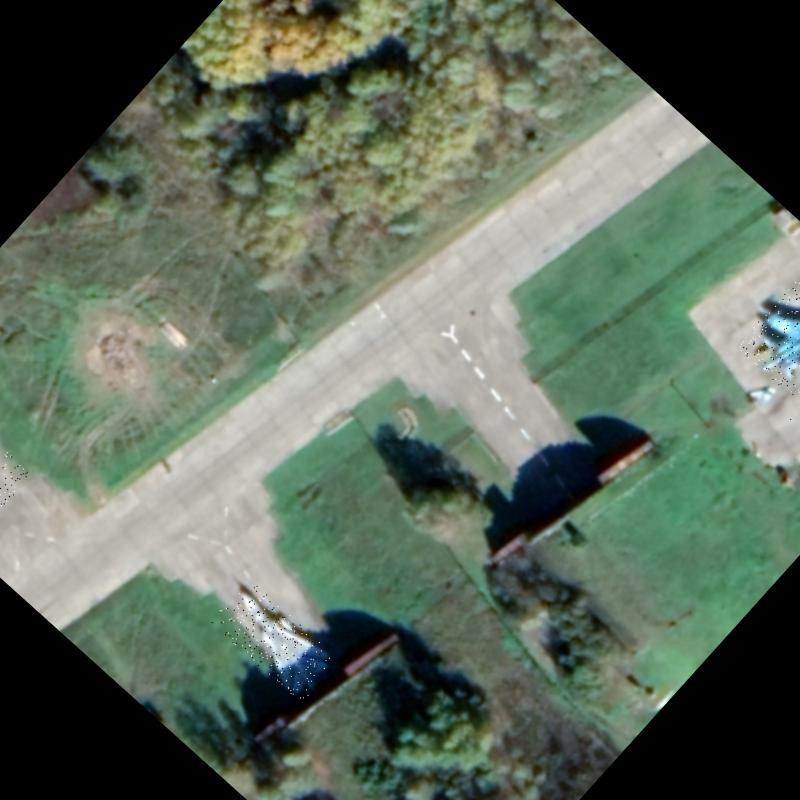A19: (735, 252, 800, 405)
A20: (208, 578, 340, 704), (0, 391, 32, 521)
